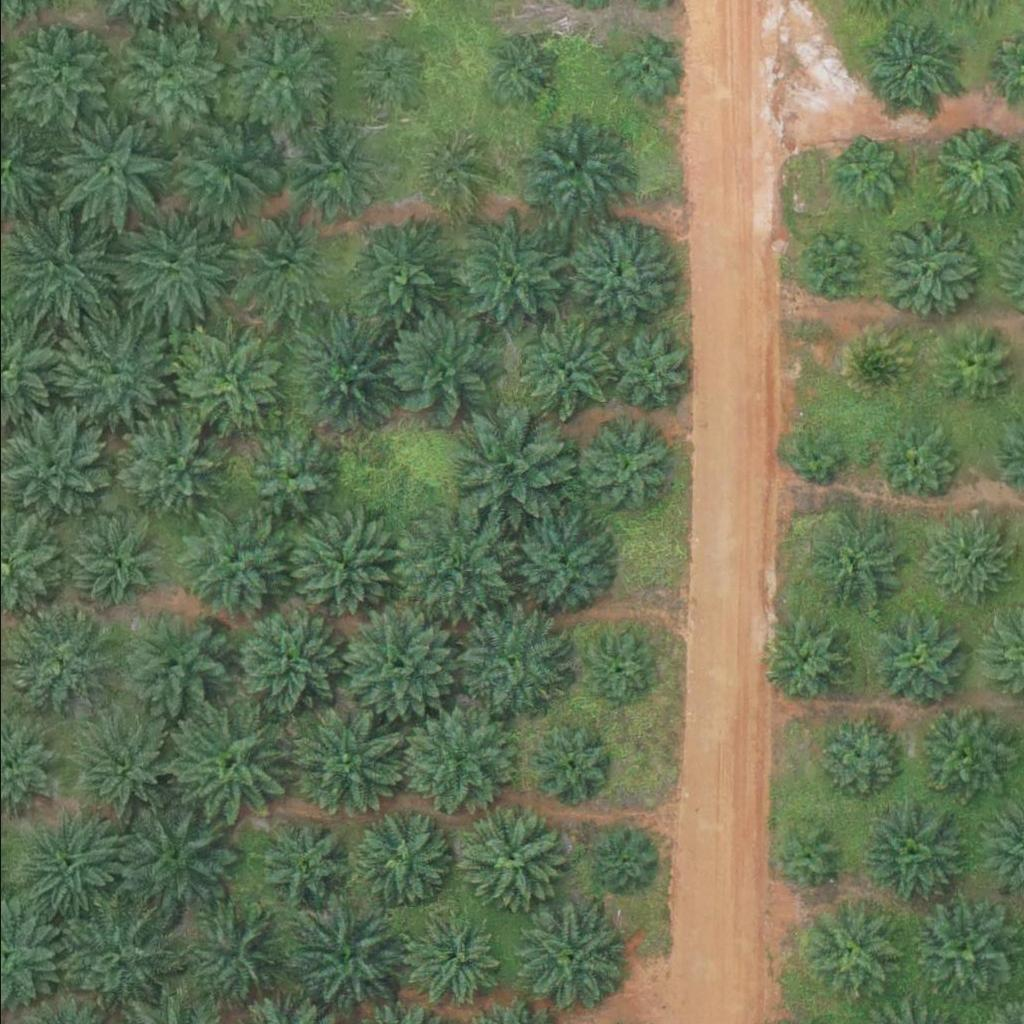Kelapa_Sawit: (510, 104, 636, 229), (44, 106, 170, 231), (449, 211, 575, 336), (379, 306, 505, 431), (446, 403, 572, 528), (387, 506, 513, 631), (222, 600, 348, 725), (280, 701, 406, 826), (165, 700, 291, 825), (109, 796, 235, 921), (289, 892, 415, 1017), (170, 891, 296, 1016), (54, 891, 180, 1016), (281, 512, 395, 625), (166, 114, 279, 227), (112, 210, 225, 323), (177, 510, 290, 623), (59, 503, 172, 616), (111, 604, 224, 717), (400, 704, 513, 817), (343, 607, 457, 719), (64, 712, 178, 824), (226, 20, 339, 132), (111, 22, 224, 134), (340, 220, 453, 332), (224, 207, 337, 319), (287, 319, 400, 431), (168, 324, 281, 436), (58, 317, 171, 429), (113, 405, 226, 517), (459, 602, 572, 714), (912, 902, 1013, 1002), (800, 902, 901, 1002), (858, 803, 959, 903), (914, 708, 1015, 808), (858, 20, 959, 120), (571, 221, 672, 321), (462, 809, 563, 909), (347, 808, 448, 908), (521, 911, 622, 1011), (400, 905, 501, 1005), (757, 609, 857, 709), (807, 515, 907, 615), (875, 221, 975, 321), (515, 320, 615, 420), (509, 510, 609, 610), (252, 815, 352, 915), (21, 814, 121, 914), (813, 714, 901, 802), (246, 434, 334, 522), (873, 619, 961, 706), (930, 515, 1018, 602), (928, 131, 1016, 218), (293, 129, 381, 216), (606, 326, 694, 413), (580, 420, 668, 507), (929, 328, 1005, 403), (575, 631, 651, 706), (766, 820, 842, 895), (881, 425, 957, 500), (840, 329, 916, 404), (791, 227, 867, 302), (413, 135, 488, 210), (532, 728, 607, 803), (833, 137, 908, 212), (607, 29, 682, 104), (477, 32, 552, 107), (347, 38, 422, 113), (590, 829, 653, 892), (781, 427, 844, 489)
